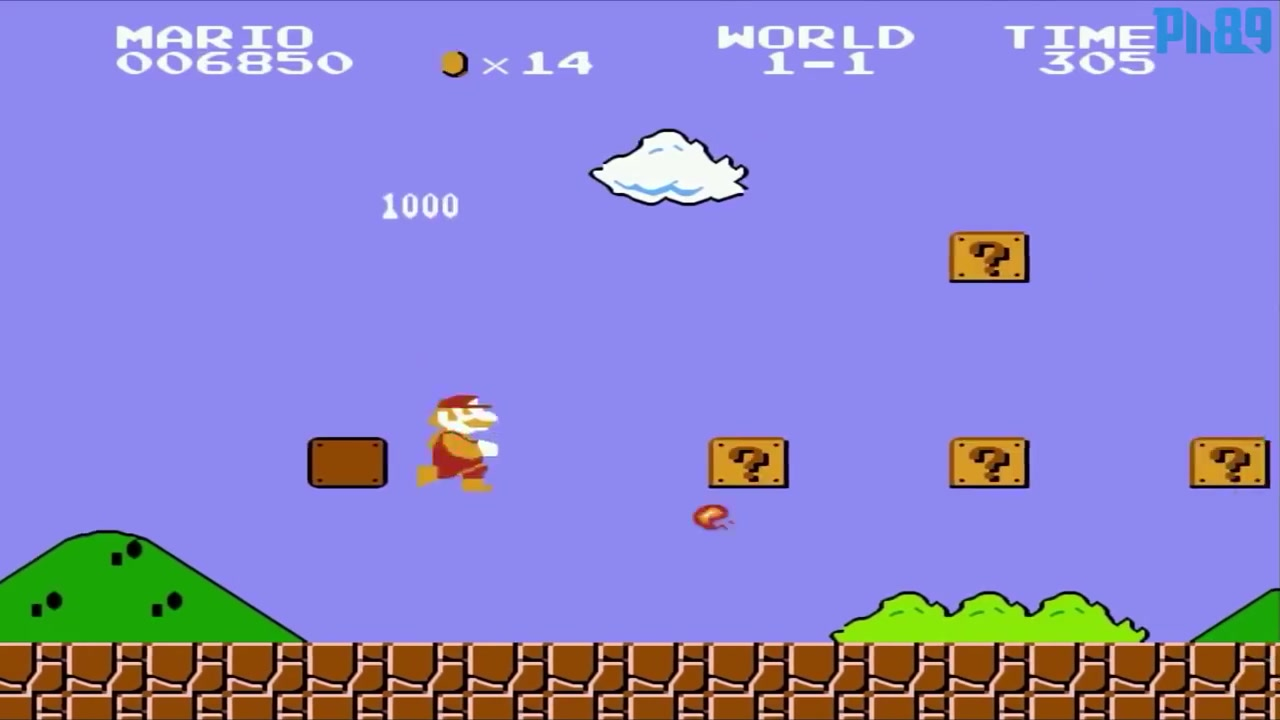mario: (403, 387, 512, 498)
